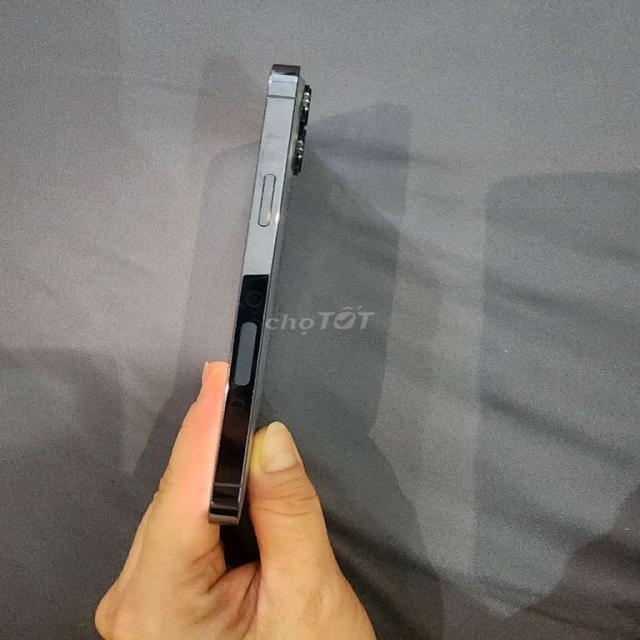gen_12_13: (200, 58, 316, 534)
